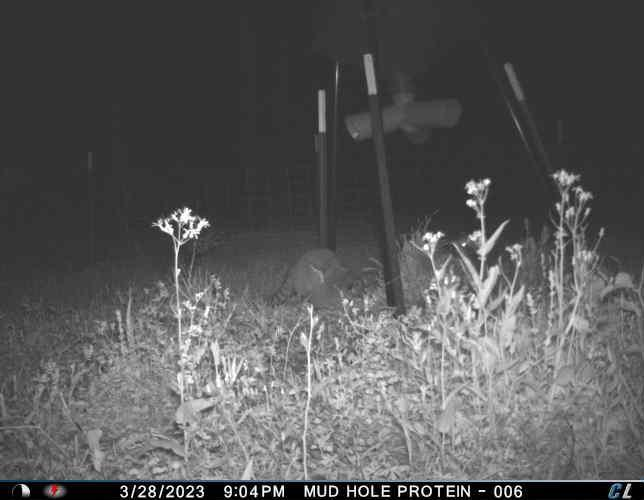Raccoon: (269, 246, 354, 310)
